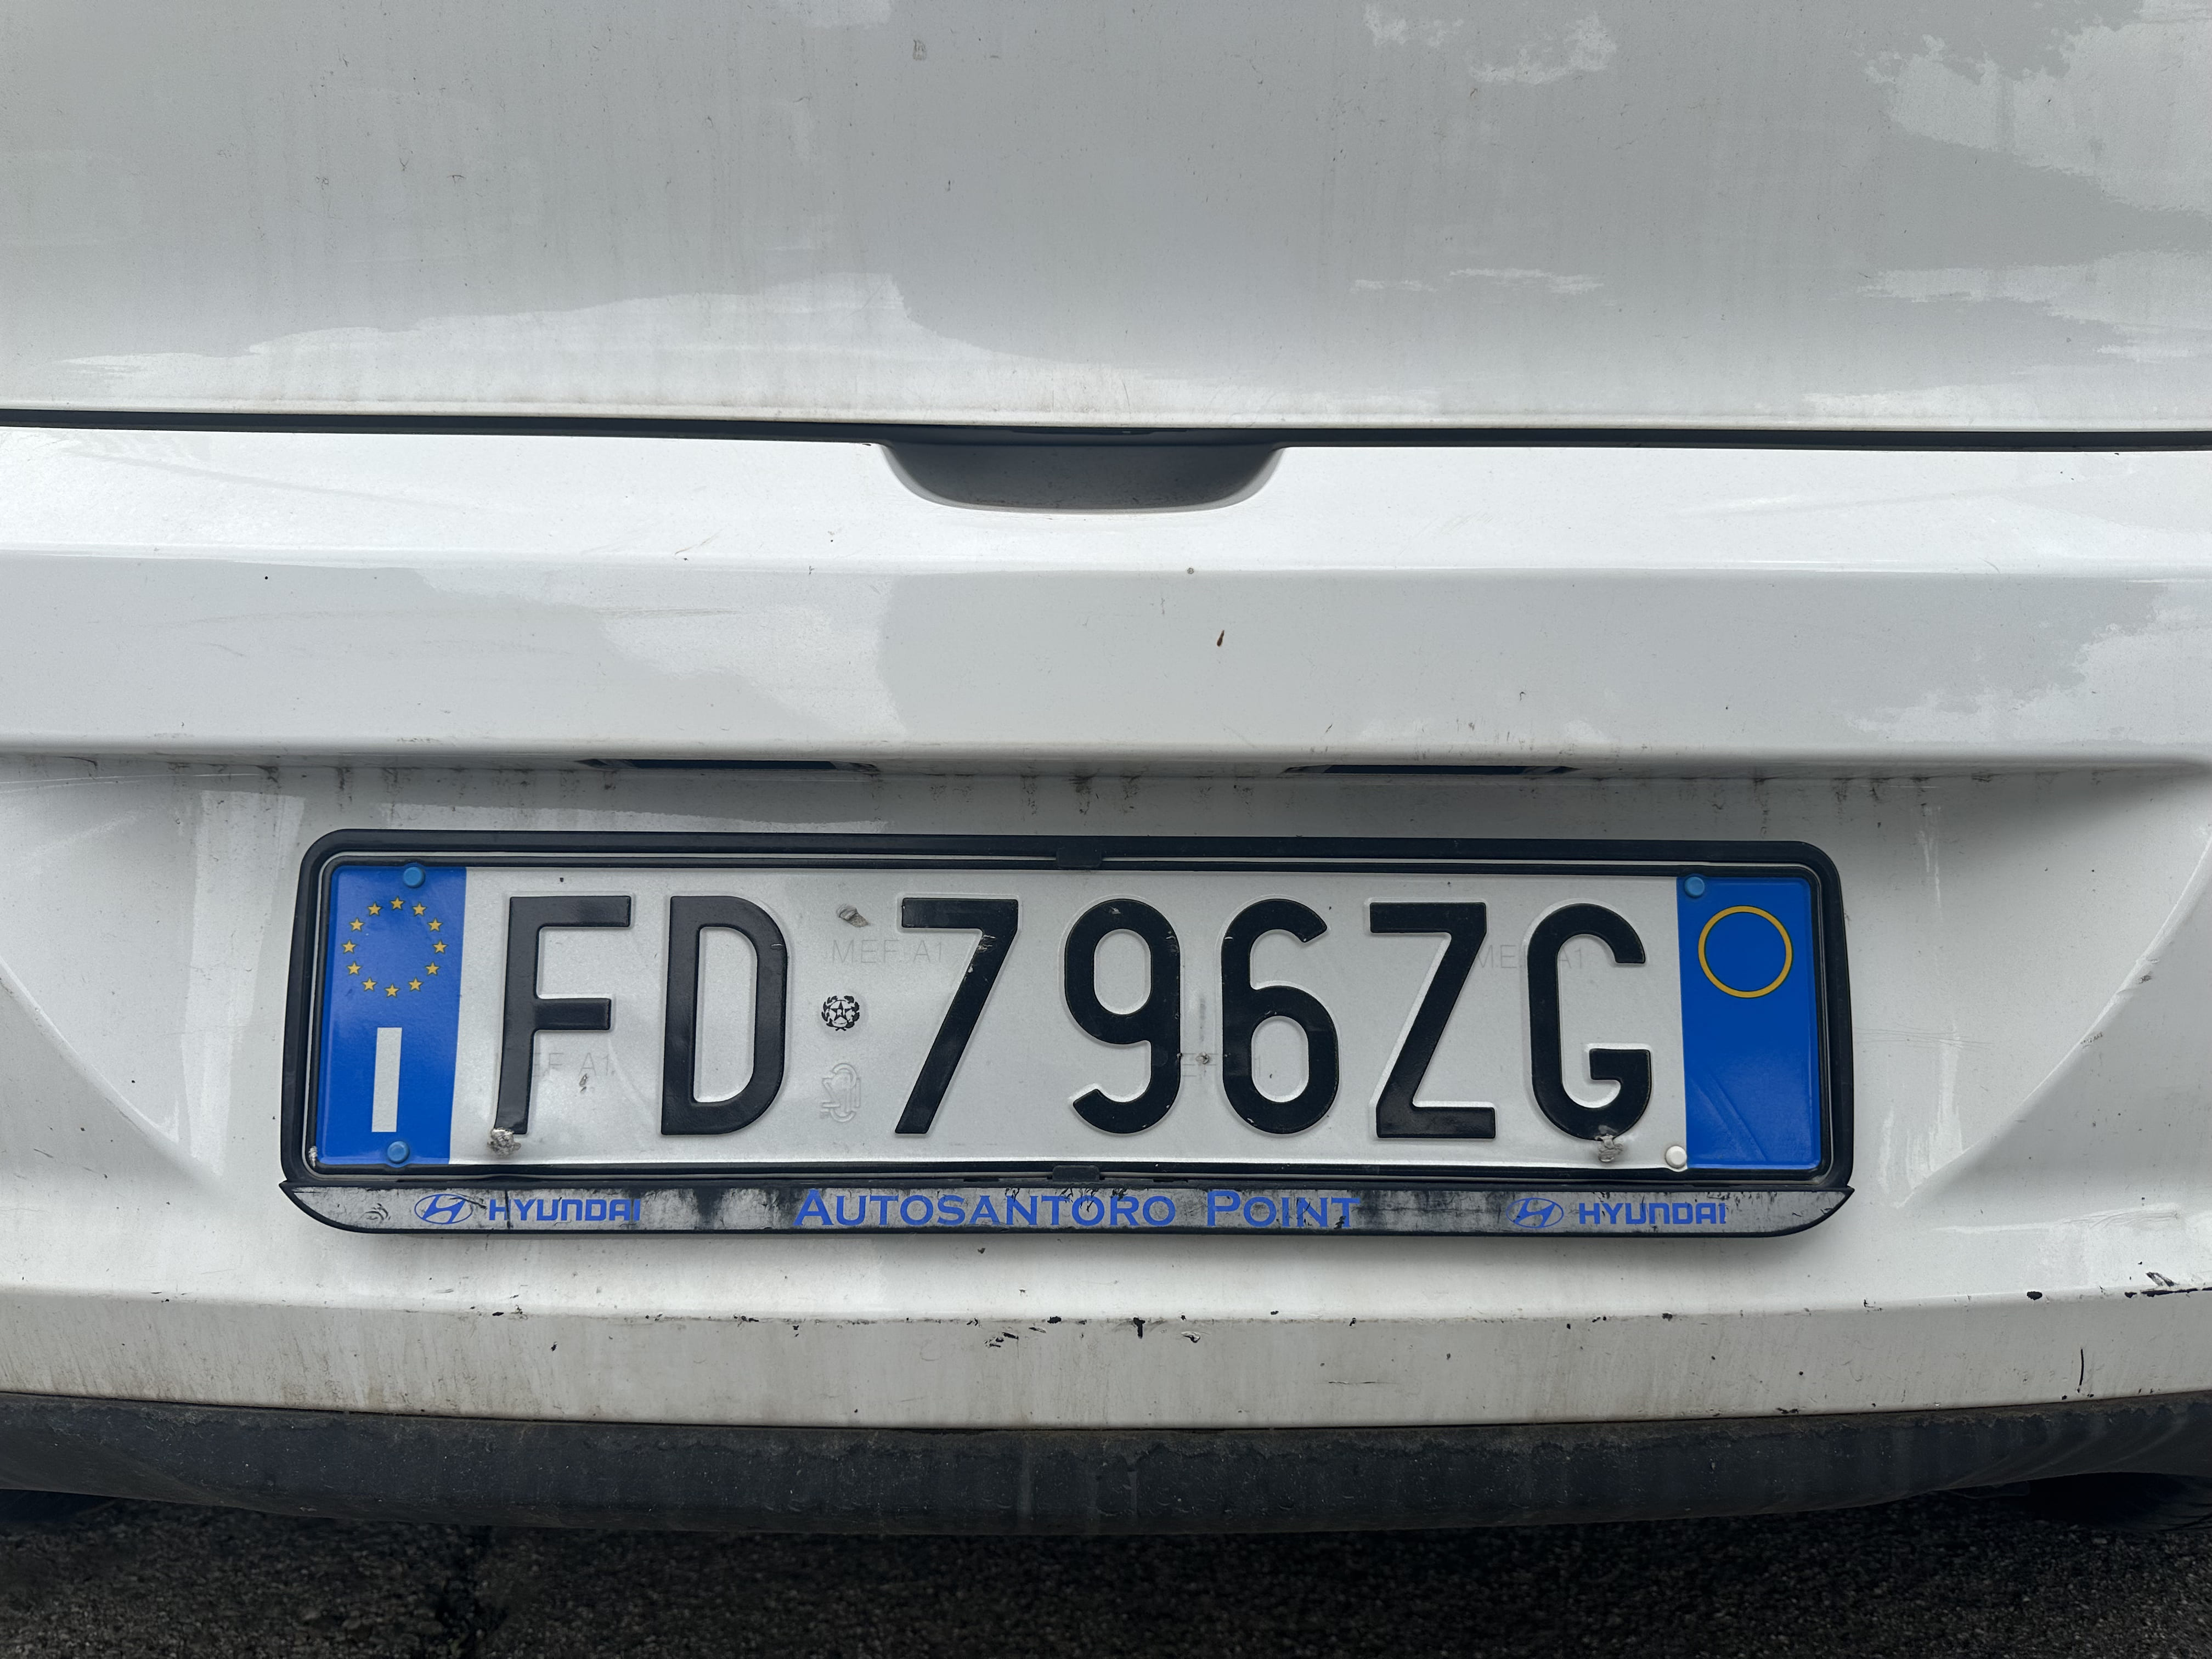license-plate: (304, 850, 1838, 1183)
